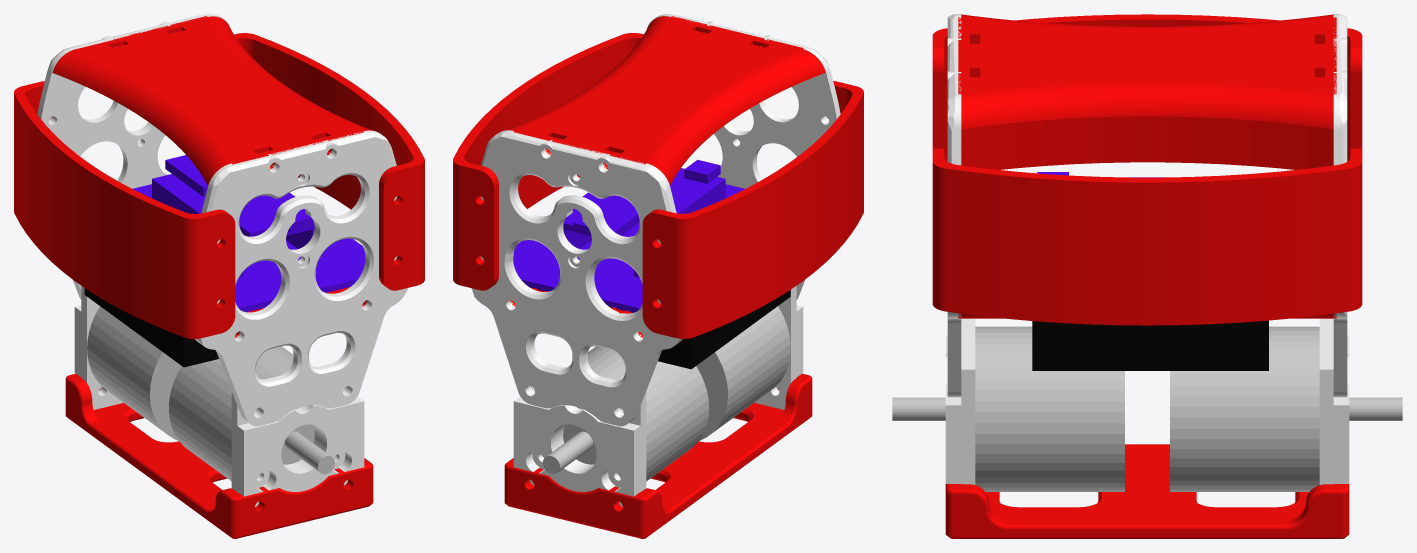
Rendered from Robot_V1.dae.
3 views of the same model, side by side, from view 1: azimuth 30°, elevation 25°; view 2: azimuth 150°, elevation 25°; view 3: azimuth 270°, elevation 25° (orthographic). The views are drawn at different scales.
Parts seen in each view (by area): view 1: node9, node4, node6, node11, node5, node12, node2, node0, node8, node1, node3, node10; view 2: node8, node4, node6, node11, node5, node10, node2, node1, node9, node0, node3, node12; view 3: node5, node6, node4, node0, node1, node11, node3, node10, node12, node8, node9.
Boxes of the visible parts, box(x1,y1,x2,y2) form: node9: box(195, 130, 407, 426); node4: box(14, 81, 235, 338); node6: box(52, 16, 371, 185); node11: box(65, 373, 373, 538); node5: box(234, 33, 424, 290); node12: box(231, 386, 364, 506); node2: box(132, 155, 365, 312); node0: box(169, 346, 334, 481); node8: box(37, 14, 231, 299); node1: box(87, 306, 181, 440); node3: box(84, 288, 218, 367); node10: box(74, 286, 123, 409); node8: box(471, 130, 682, 426); node4: box(642, 81, 863, 338); node6: box(506, 16, 825, 185); node11: box(504, 373, 812, 538); node5: box(453, 33, 643, 290); node10: box(513, 386, 646, 506); node2: box(513, 159, 744, 312); node1: box(543, 346, 709, 481); node9: box(646, 14, 840, 299); node0: box(696, 306, 790, 440); node3: box(658, 290, 790, 369); node12: box(754, 286, 803, 409); node5: box(932, 148, 1362, 325); node6: box(958, 14, 1336, 128); node4: box(932, 14, 1362, 169); node0: box(892, 326, 1124, 491); node1: box(1170, 326, 1402, 491); node11: box(945, 444, 1349, 538); node3: box(1032, 320, 1268, 370); node10: box(1319, 318, 1349, 484); node12: box(945, 318, 975, 484); node8: box(1333, 14, 1347, 397); node9: box(947, 14, 961, 397).
Bounding box in the file's own units: 0.1009 × 0.1294 × 0.124.
